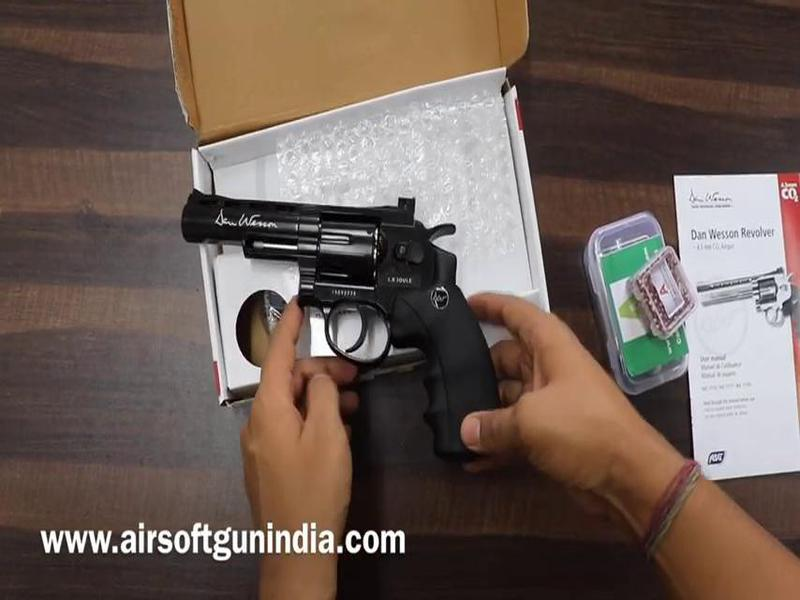Revolver: (144, 171, 518, 478)
